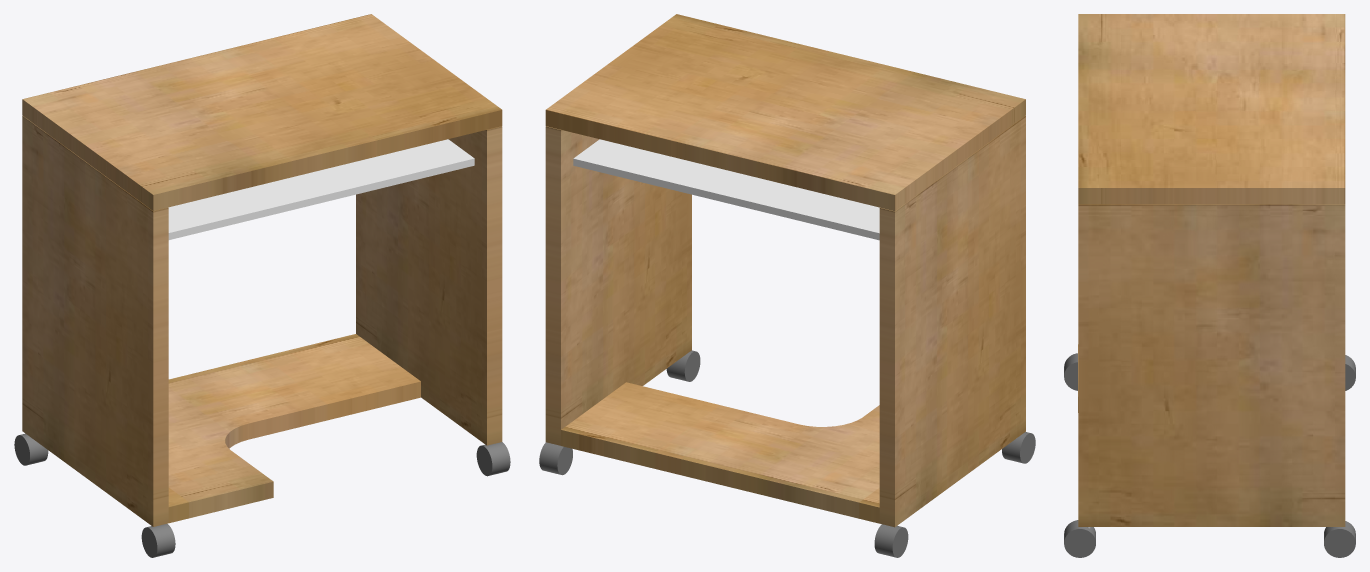
The model's file is sweethome3d-contributions-desk-324.glb.
3 renders of one model, left to right at view 1: azimuth 30°, elevation 25°; view 2: azimuth 150°, elevation 25°; view 3: azimuth 270°, elevation 25°, orthographic. The views are drawn at different scales.
Parts seen in each view (by area): view 1: Cube_17_1, Cube_18_2, Cube_18_1_3, Boolean_3_4, Cube_19_5, Cylinder_9_6, Cylinder_9_1_9, Cylinder_9_2_10; view 2: Cube_17_1, Cube_18_2, Cube_18_1_3, Boolean_3_4, Cube_19_5, Cylinder_9_2_10, Cylinder_9_3_13, Cylinder_9_1_9, Cylinder_9_6; view 3: Cube_18_1_3, Cube_17_1, Cylinder_9_6, Cylinder_9_3_13, Cylinder_9_1_9.
Boxes of the visible parts, x1,y1,x2,y2 form: Cube_17_1: [22, 14, 502, 210]; Cube_18_2: [22, 115, 168, 526]; Cube_18_1_3: [356, 126, 502, 445]; Boolean_3_4: [168, 334, 420, 523]; Cube_19_5: [168, 139, 474, 239]; Cylinder_9_6: [476, 442, 510, 476]; Cylinder_9_1_9: [141, 524, 175, 557]; Cylinder_9_2_10: [14, 433, 48, 465]; Cube_17_1: [545, 14, 1025, 210]; Cube_18_2: [879, 115, 1025, 527]; Cube_18_1_3: [545, 126, 691, 445]; Boolean_3_4: [561, 382, 879, 523]; Cube_19_5: [573, 139, 879, 240]; Cylinder_9_2_10: [874, 524, 908, 557]; Cylinder_9_3_13: [539, 442, 572, 475]; Cylinder_9_1_9: [1002, 432, 1035, 463]; Cylinder_9_6: [666, 350, 700, 381]; Cube_18_1_3: [1078, 204, 1345, 526]; Cube_17_1: [1078, 14, 1345, 204]; Cylinder_9_6: [1064, 520, 1095, 557]; Cylinder_9_3_13: [1324, 521, 1355, 557]; Cylinder_9_1_9: [1064, 353, 1077, 390].
Bounding box in the file's own units: 77.87 × 76.46 × 54.6.
4 materials, 1 textured.
